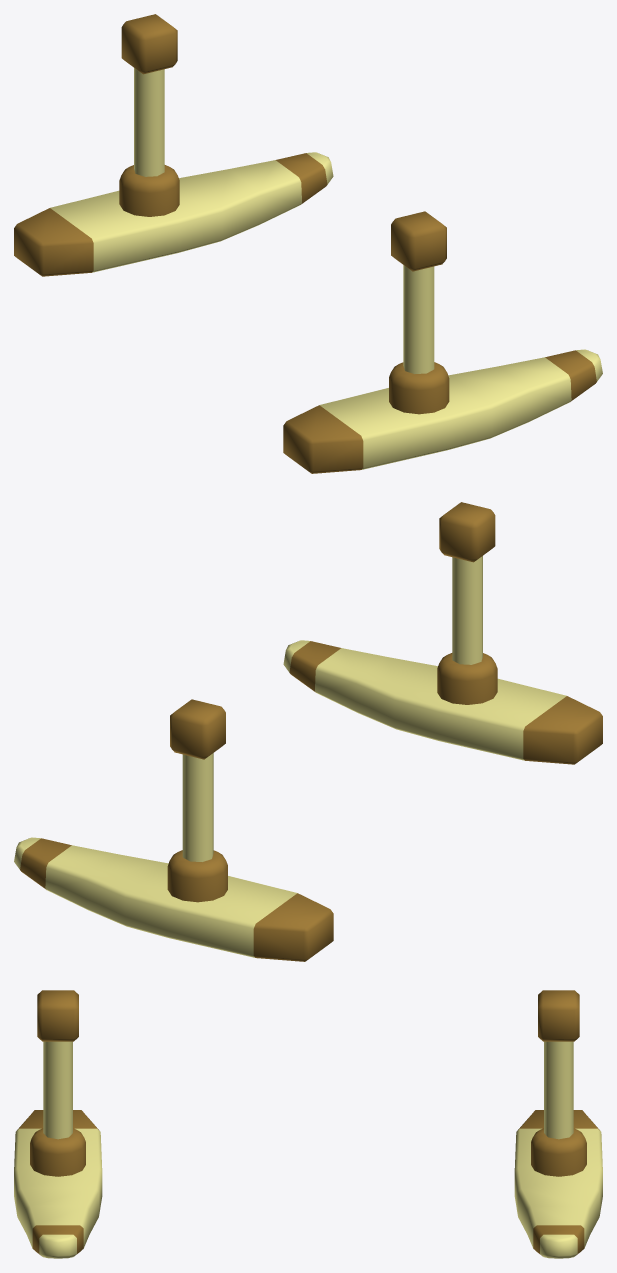
Rendered from ski_wood.fbx.
3 views of the same model, one above another, from view 1: azimuth 30°, elevation 25°; view 2: azimuth 150°, elevation 25°; view 3: azimuth 270°, elevation 25° (orthographic). The views are drawn at different scales.
Parts seen in each view (by area): view 1: ski_wood; view 2: ski_wood; view 3: ski_wood.
Part boxes in pixels (x1=…): ski_wood: x1=14, y1=14, x2=602, y2=473; ski_wood: x1=14, y1=502, x2=602, y2=961; ski_wood: x1=14, y1=990, x2=602, y2=1258.
Size of the model in its own units: 130 by 87.78 by 234.
